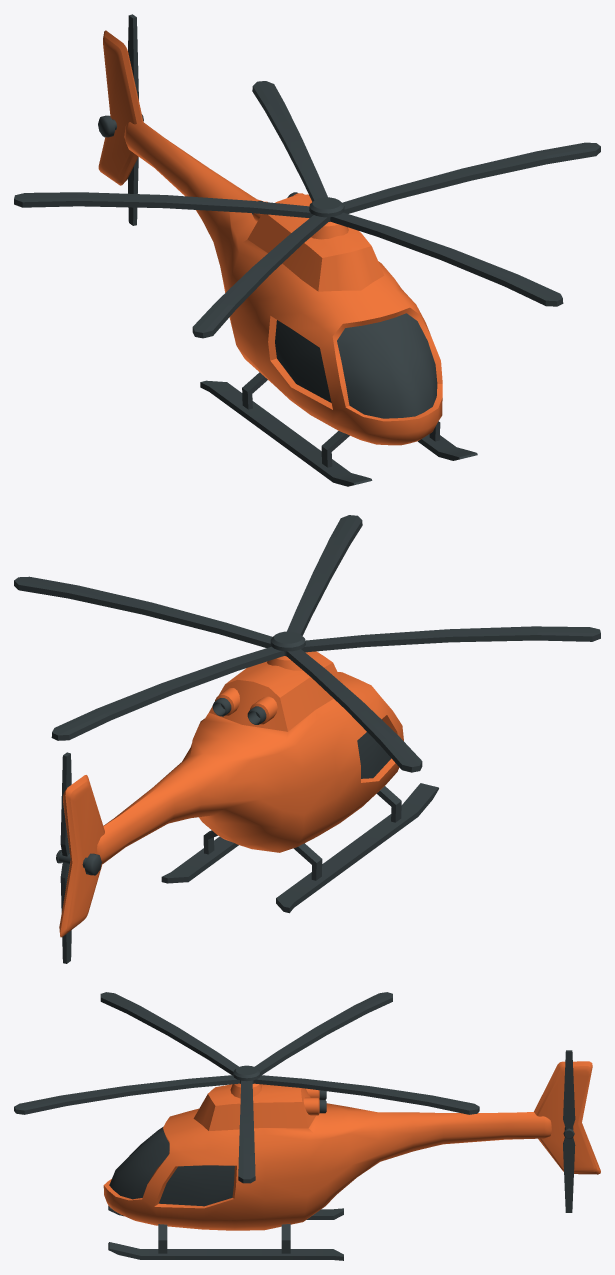
Rendered from Helicopter_01.fbx.
3 views of the same model, one above another, from view 1: azimuth 30°, elevation 25°; view 2: azimuth 150°, elevation 25°; view 3: azimuth 270°, elevation 25° (orthographic). The views are drawn at different scales.
Parts seen in each view (by area): view 1: Helicopter_01, Helicopter_01_Propeller_Top, Helicopter_01_Propeller_Side; view 2: Helicopter_01, Helicopter_01_Propeller_Top, Helicopter_01_Propeller_Side; view 3: Helicopter_01, Helicopter_01_Propeller_Top, Helicopter_01_Propeller_Side.
Part boxes in pixels (left/top/right/bottom): Helicopter_01: left=98, top=30, right=477, bottom=486; Helicopter_01_Propeller_Top: left=14, top=81, right=600, bottom=338; Helicopter_01_Propeller_Side: left=112, top=14, right=143, bottom=225; Helicopter_01: left=59, top=651, right=438, bottom=937; Helicopter_01_Propeller_Top: left=14, top=515, right=600, bottom=772; Helicopter_01_Propeller_Side: left=56, top=752, right=86, bottom=963; Helicopter_01: left=103, top=1061, right=600, bottom=1260; Helicopter_01_Propeller_Top: left=14, top=992, right=479, bottom=1183; Helicopter_01_Propeller_Side: left=563, top=1050, right=575, bottom=1212.
Size of the model in its own units: 50.23 by 23.9 by 66.56.
Materials: 1 (1 with a texture image).
